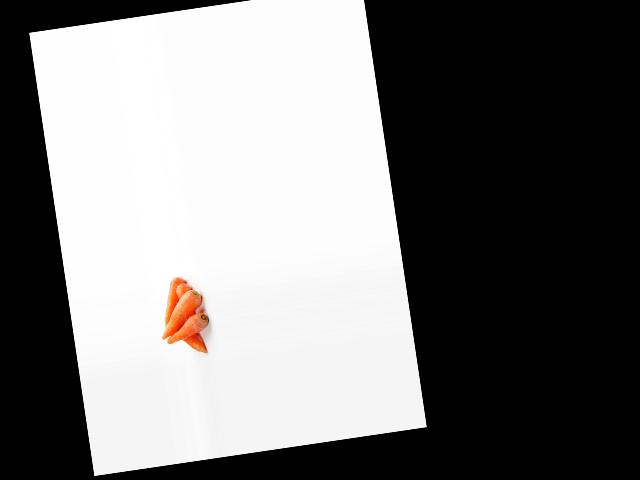carrot: (164, 310, 212, 345)
